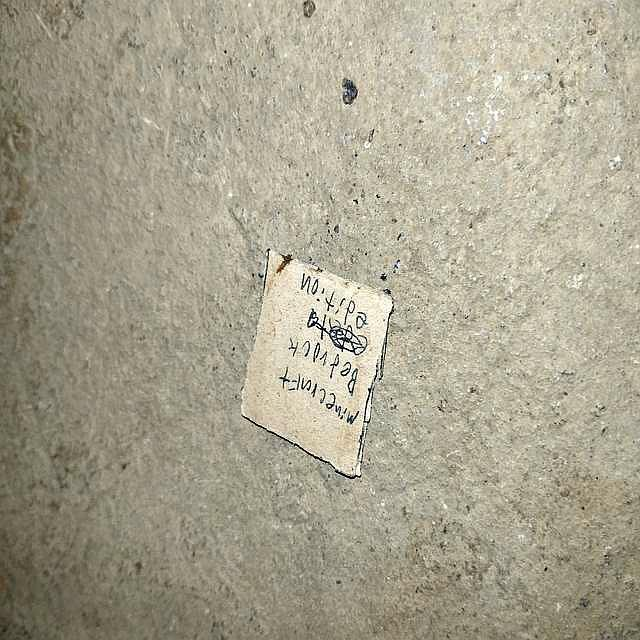Biodegradable: (240, 246, 399, 483)
